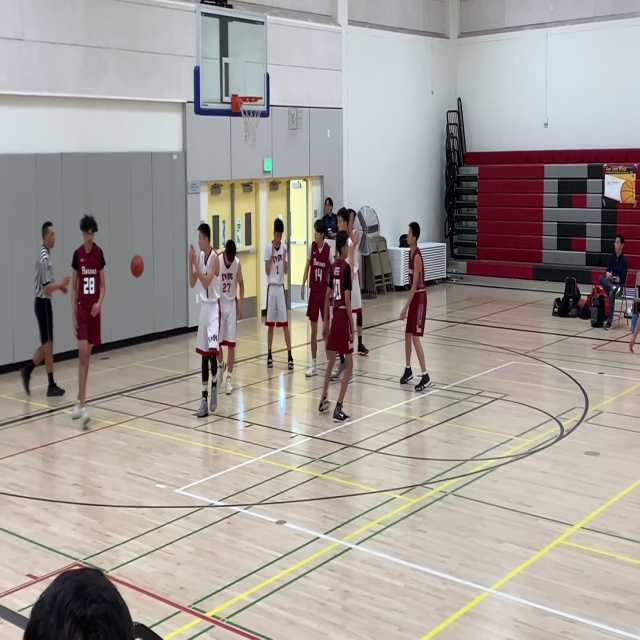Basketball: (130, 255, 144, 277)
